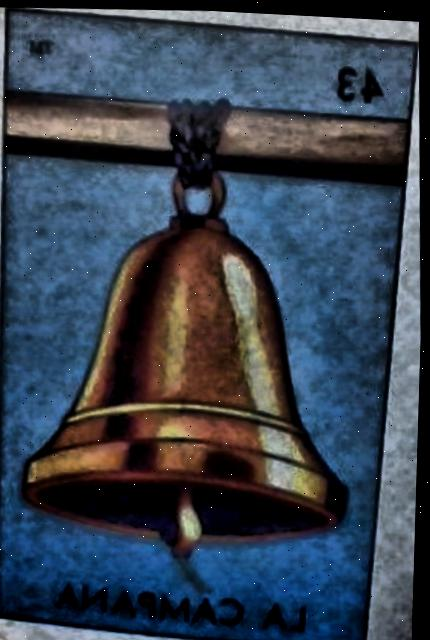La Campana: (0, 8, 414, 640)
